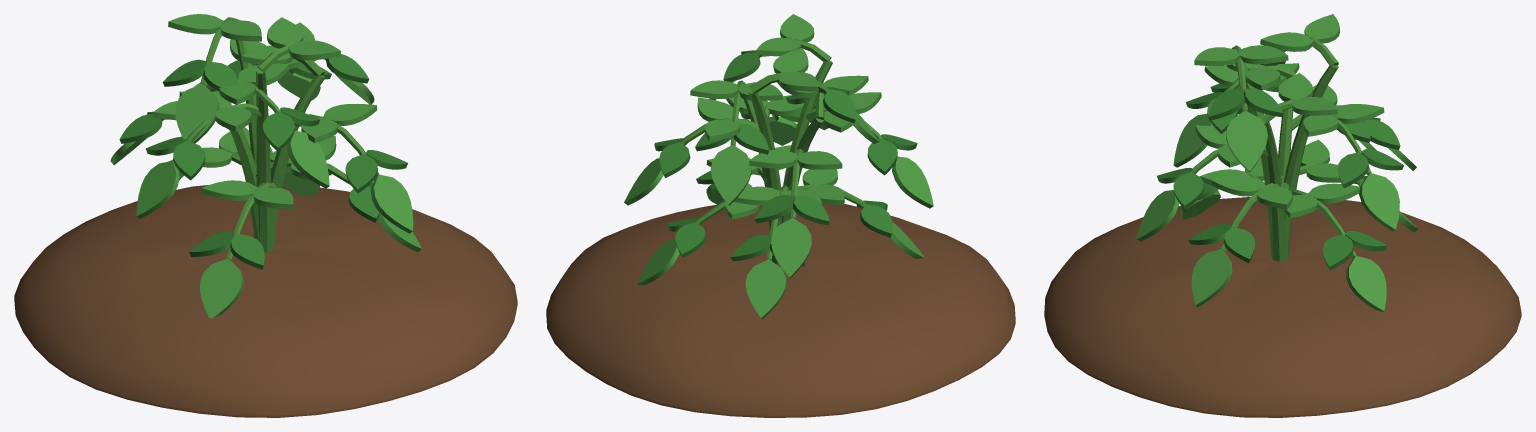
3 renders of one model, left to right at view 1: azimuth 30°, elevation 25°; view 2: azimuth 150°, elevation 25°; view 3: azimuth 270°, elevation 25°, orthographic. The views are drawn at different scales.
Parts seen in each view (by area): view 1: body; view 2: body; view 3: body.
Part boxes in pixels (<box>): body: <box>14,14,517,417</box>; body: <box>546,14,1015,417</box>; body: <box>1044,14,1521,417</box>.
Bounding box in the file's own units: 0.26 × 0.1626 × 0.26.
1 material, 1 textured.
